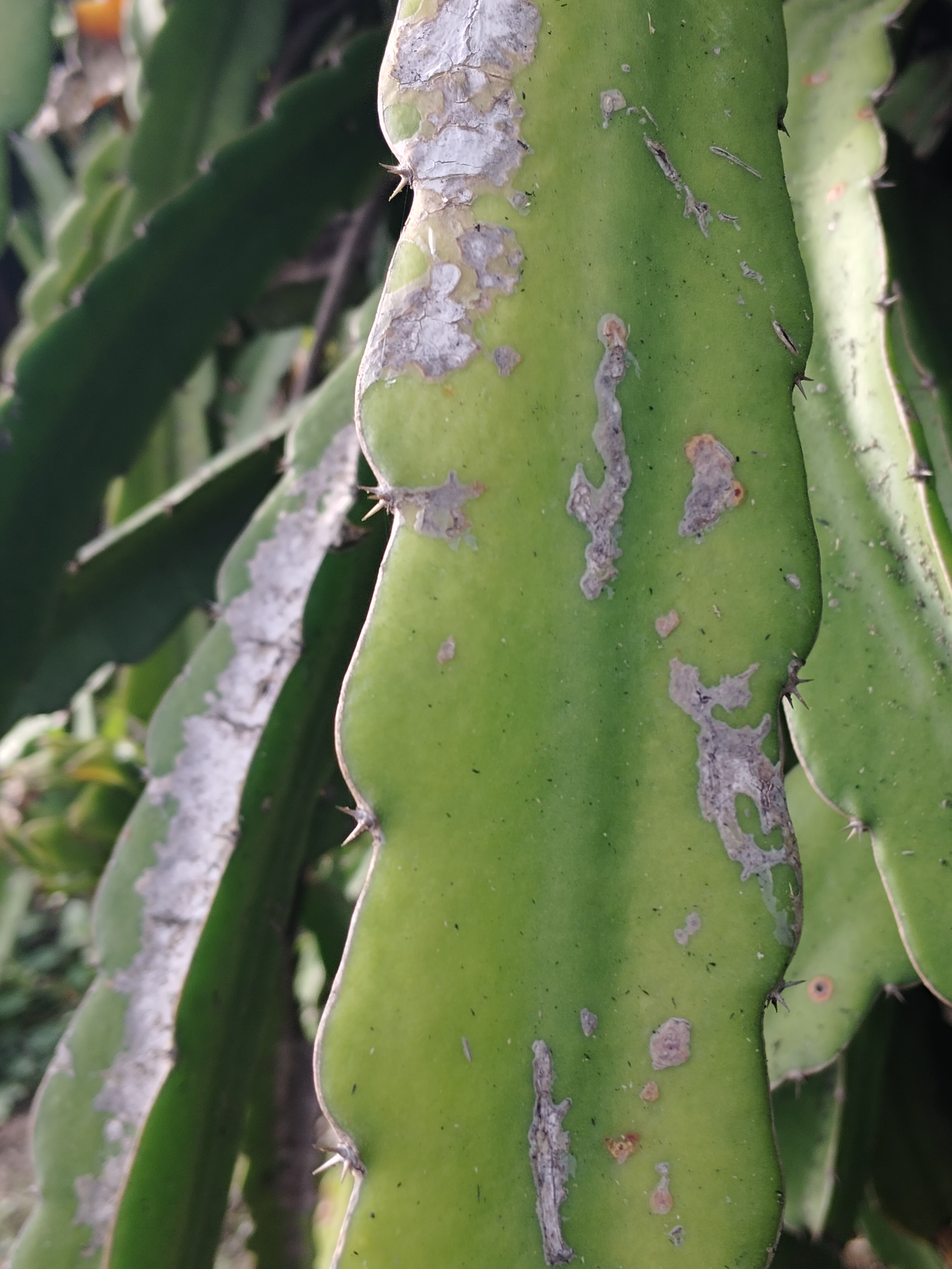stemcanker: (317, 1, 829, 1269), (10, 380, 367, 1269)
